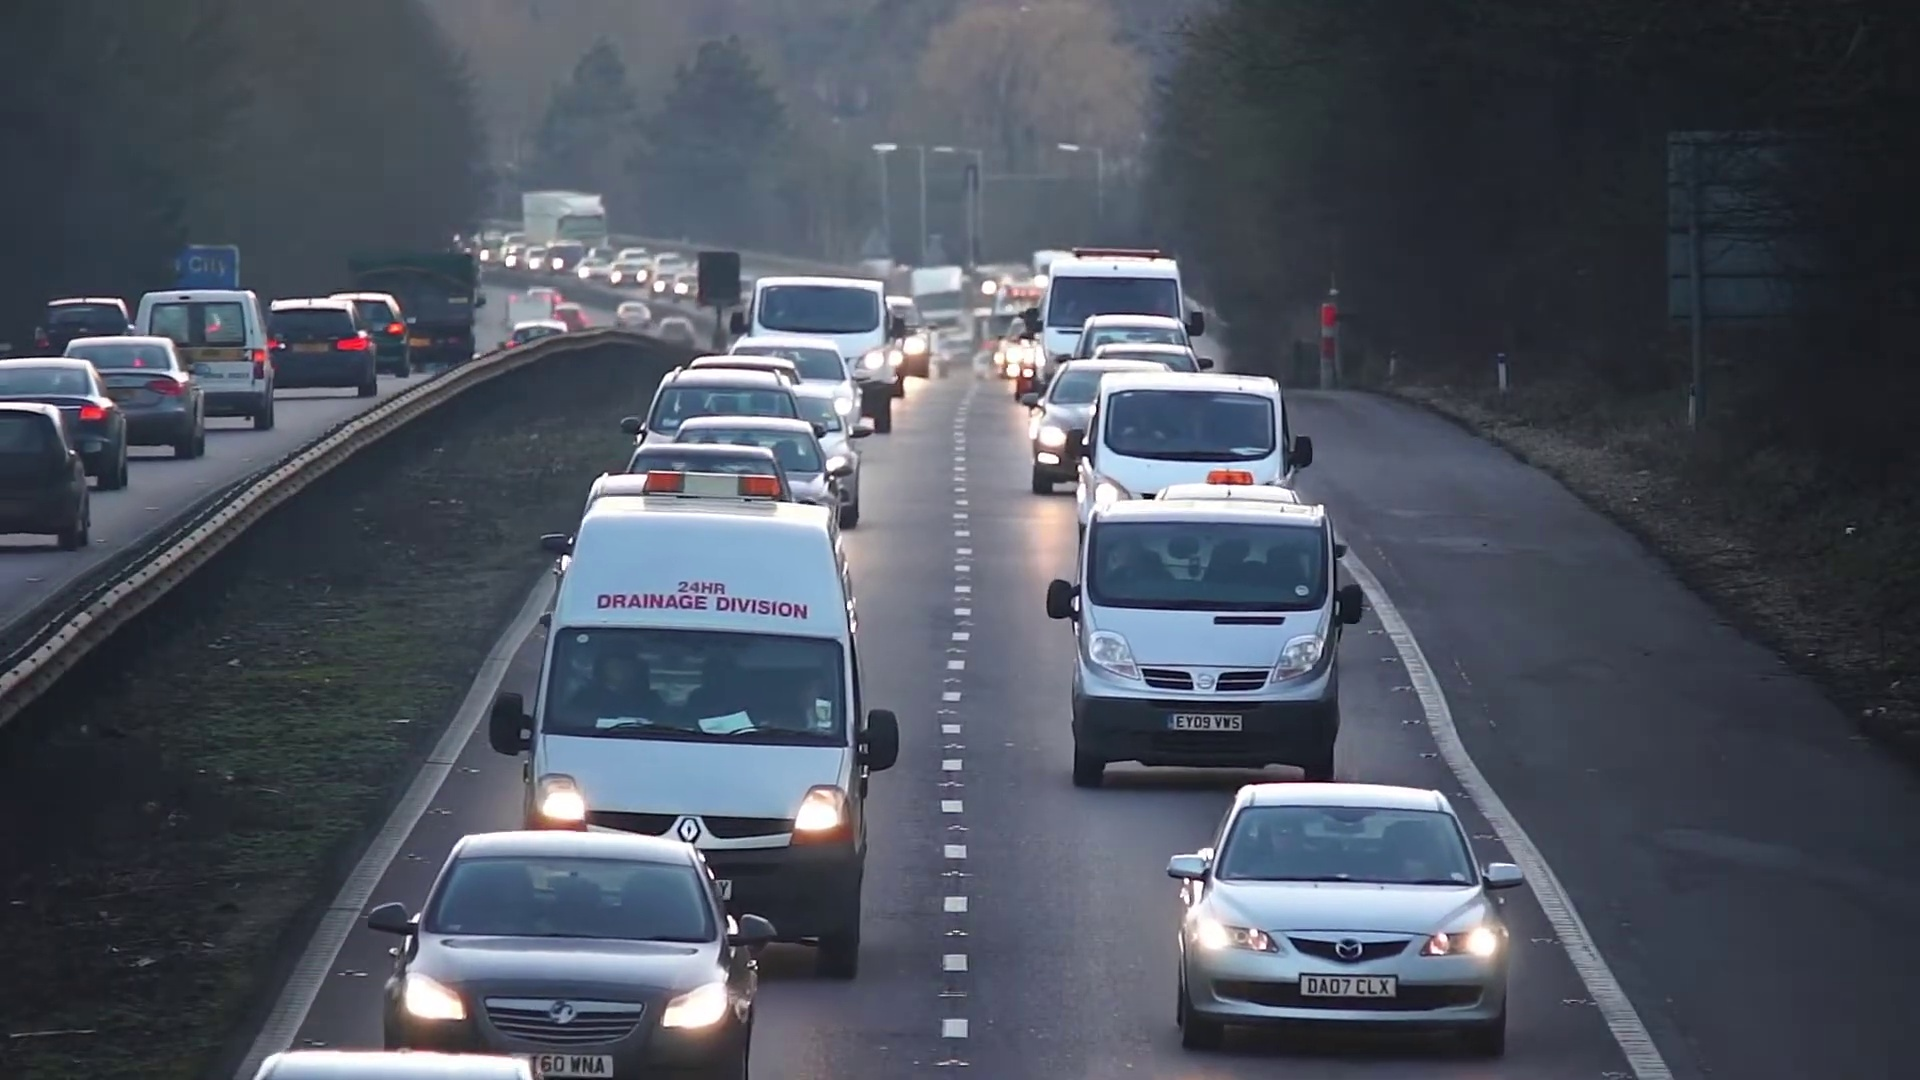license_plate: (1294, 970, 1399, 1007), (528, 1052, 615, 1080), (1168, 708, 1246, 734)
